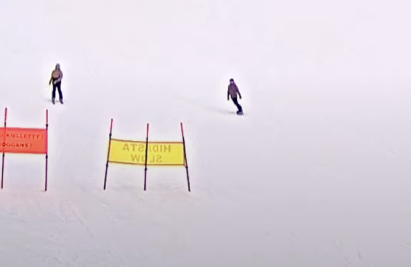skier: (48, 63, 65, 104)
snowboarder: (227, 78, 244, 115)
